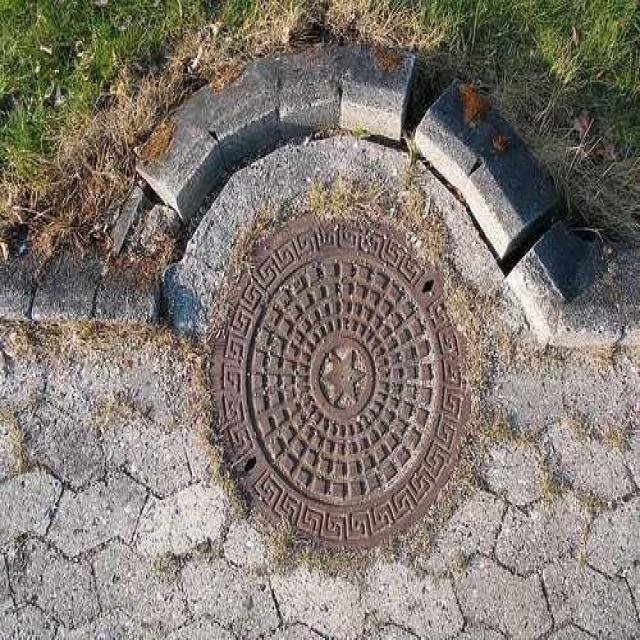manhole: (214, 218, 469, 546)
